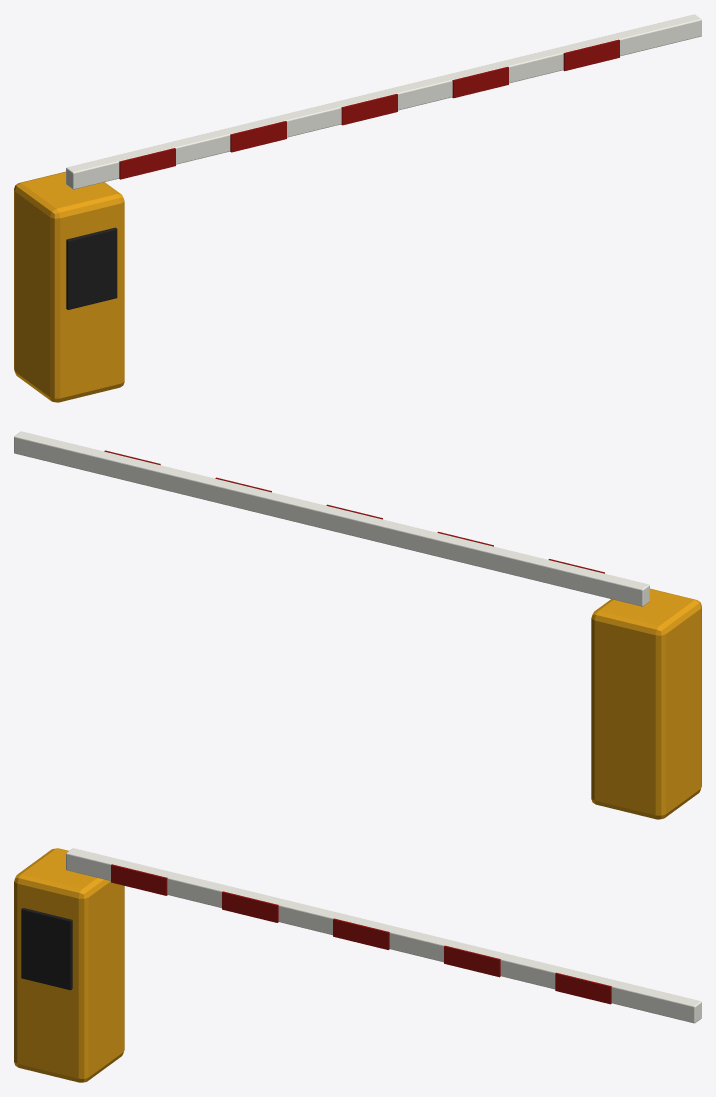
Rendered from OAA_Parking_BarrierGate.fbx.
3 renders of one model, top to bottom at view 1: azimuth 30°, elevation 25°; view 2: azimuth 150°, elevation 25°; view 3: azimuth 330°, elevation 25°, orthographic.
Visible parts, largest first — view 1: Body, Pivot_Palang_Mesh; view 2: Body, Pivot_Palang_Mesh; view 3: Body, Pivot_Palang_Mesh.
Boxes of the visible parts, x1,y1,x2,y2 form: Body: [14, 171, 124, 402]; Pivot_Palang_Mesh: [66, 14, 701, 189]; Body: [591, 588, 701, 819]; Pivot_Palang_Mesh: [14, 431, 649, 606]; Body: [14, 848, 124, 1082]; Pivot_Palang_Mesh: [66, 848, 701, 1023].
Bounding box in the file's own units: 3.6 × 1.09 × 0.42.
